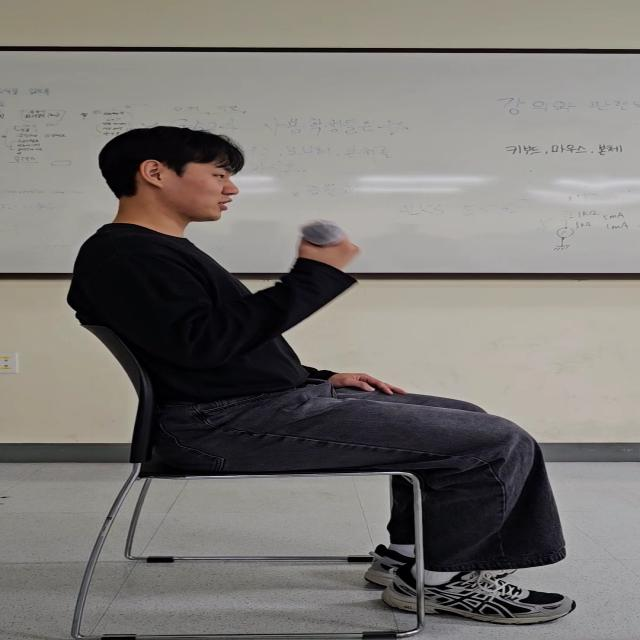curl: (211, 259, 326, 349)
